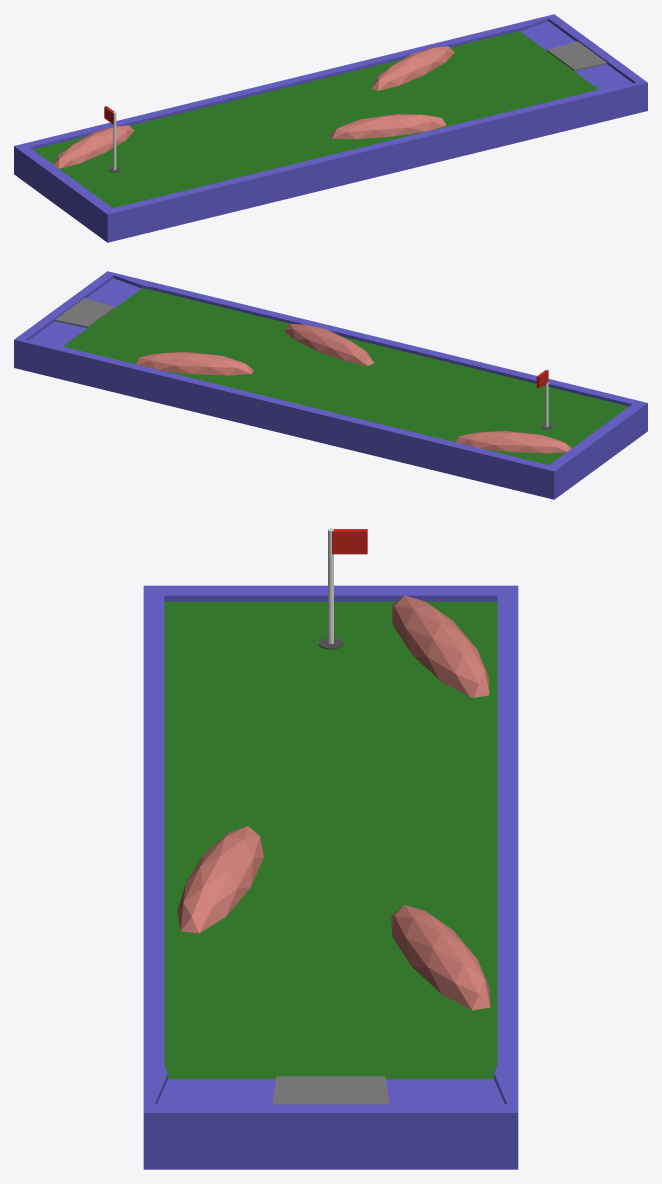
File: MiniGolf1.fbx
The picture shows the model from 3 angles, top to bottom: view 1: azimuth 30°, elevation 25°; view 2: azimuth 150°, elevation 25°; view 3: azimuth 270°, elevation 25°; orthographic projection. The views are drawn at different scales.
Visible parts, largest first — view 1: Cube, Icosphere, Icosphere.001, Icosphere.002; view 2: Cube, Icosphere.001, Icosphere.002, Icosphere; view 3: Cube, Icosphere.001, Icosphere, Icosphere.002, Cube.001.
Boxes of the visible parts, box(x1,y1,x2,y2) form: Cube: box(14, 14, 647, 242); Icosphere: box(330, 114, 446, 139); Icosphere.001: box(371, 46, 454, 90); Icosphere.002: box(53, 125, 133, 168); Cube: box(14, 271, 647, 499); Icosphere.001: box(136, 351, 253, 375); Icosphere.002: box(456, 431, 571, 453); Icosphere: box(284, 324, 373, 365); Cube: box(143, 585, 518, 1169); Icosphere.001: box(391, 905, 490, 1010); Icosphere: box(177, 826, 263, 933); Icosphere.002: box(391, 595, 489, 697); Cube.001: box(332, 529, 367, 554).
Bounding box in the file's own units: 1000 × 146 × 300.
